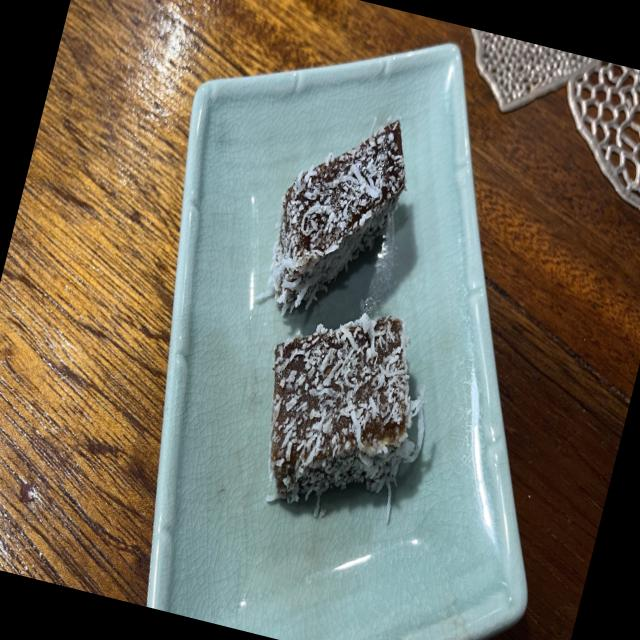kaswi: (269, 313, 423, 503), (269, 119, 405, 315)
